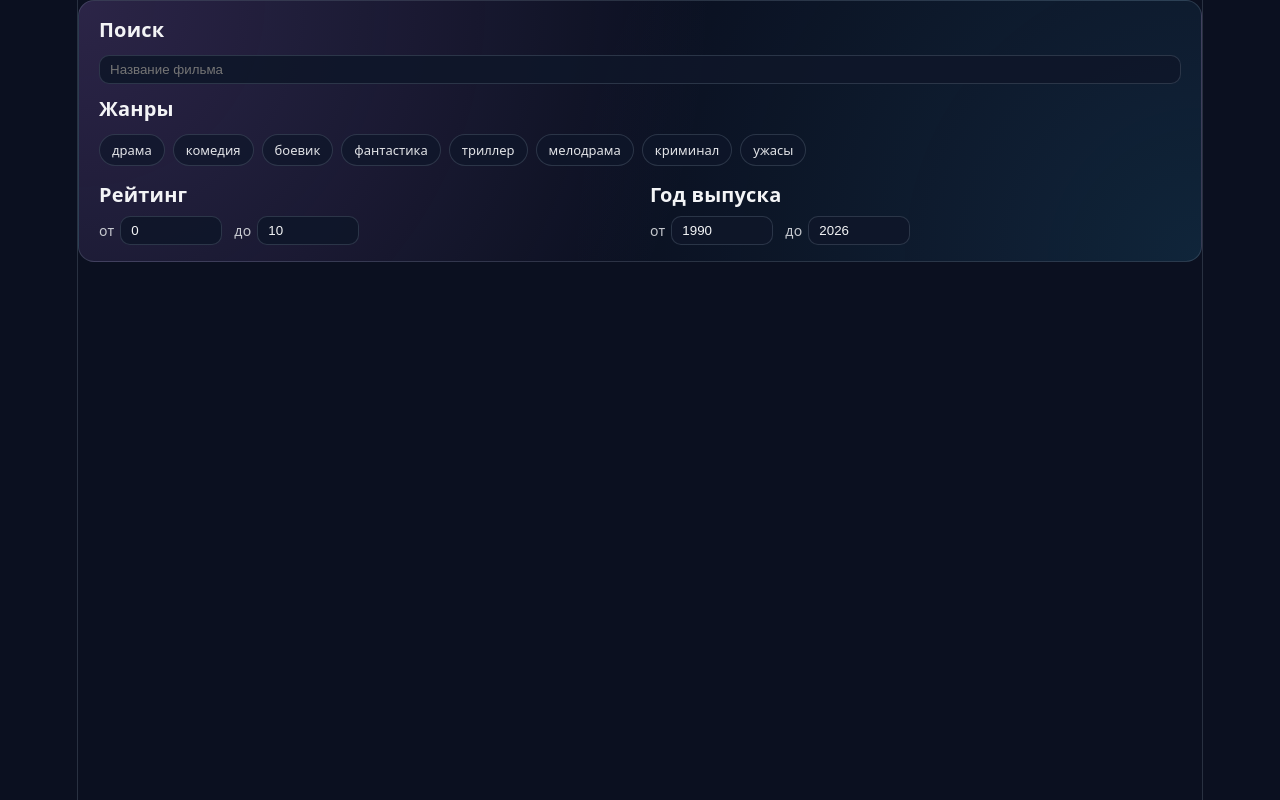
MoviesFilters › shows error when ratingFrom is greater than ratingTo
Step 1. Replace the text in the number field labelled "от" below "Рейтинг" with "9" → (171, 231), box [120,216,222,245]
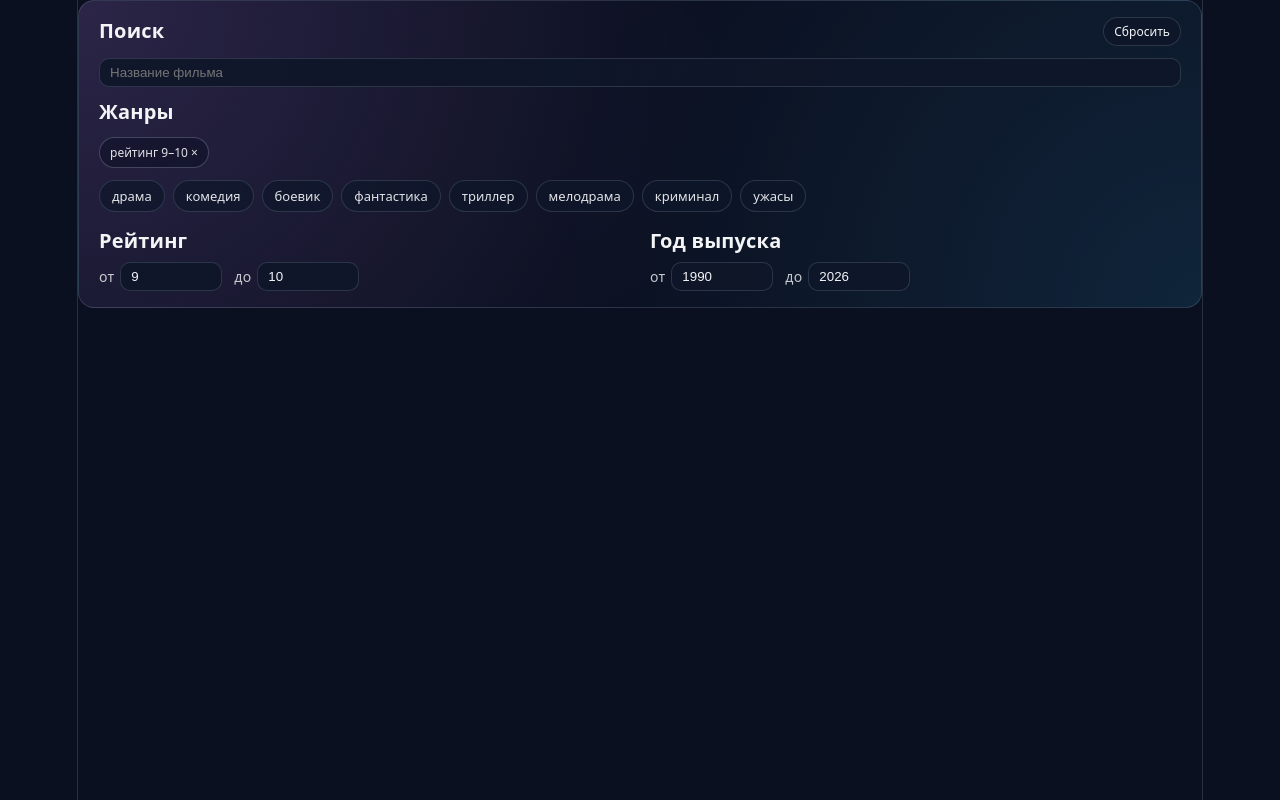
Step 2. Replace the text in the 1st number field labelled "до" with "5" → (308, 277), box [257,262,359,291]
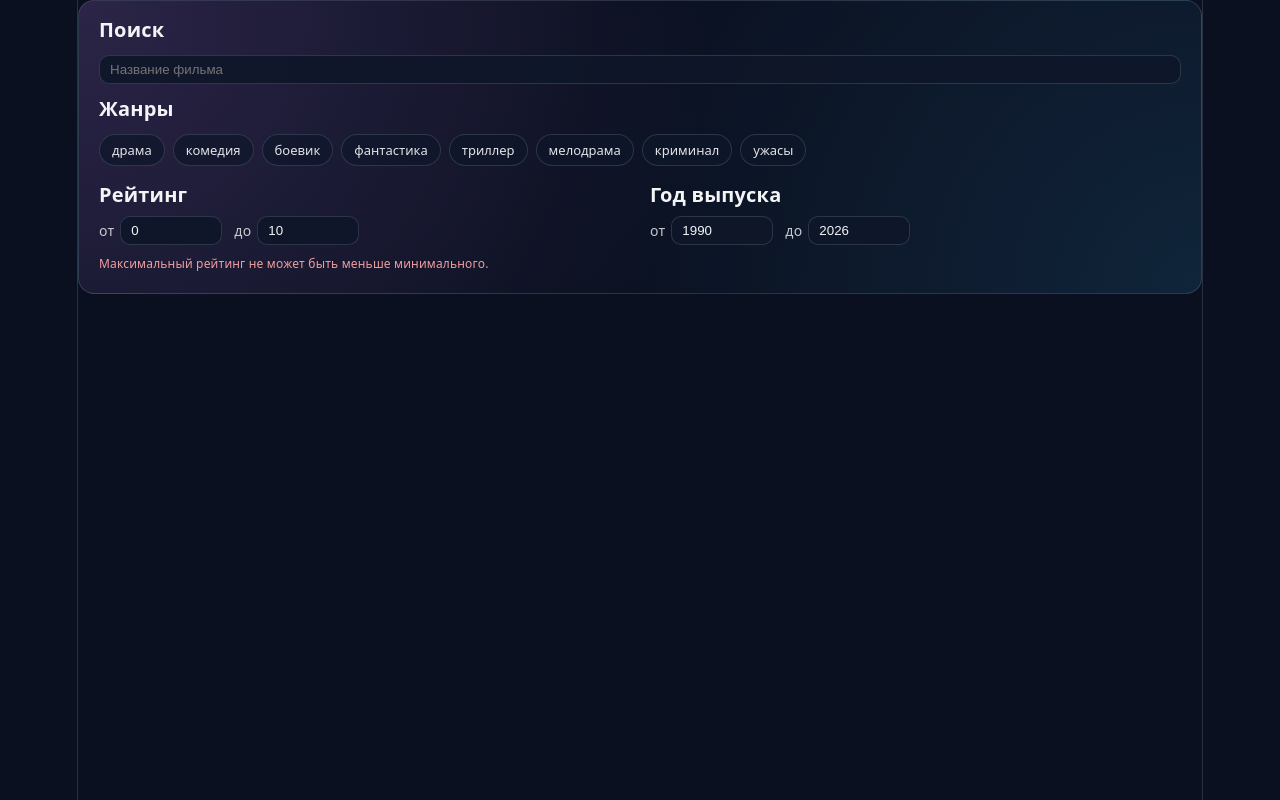
Check: the text "Максимальный рейтинг не может быть меньше минимального." is shown, box [99,255,489,272]
